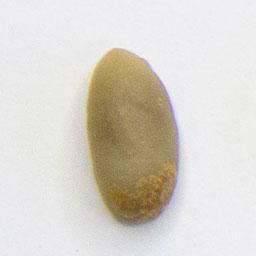longberry: (81, 41, 185, 226)
